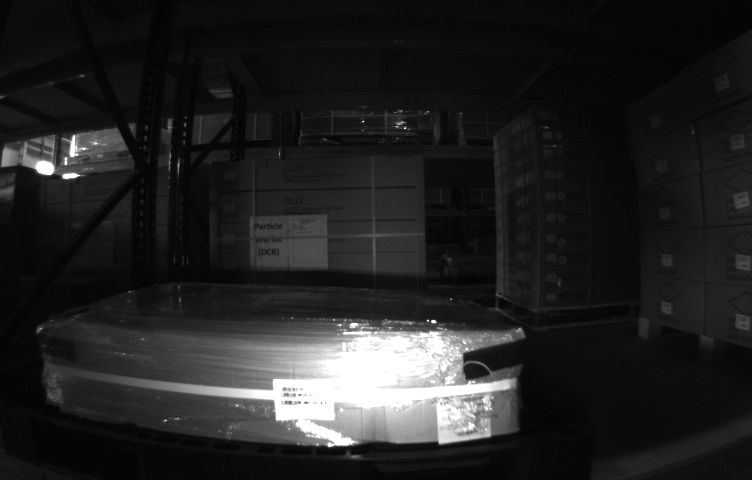True Barcode: (437, 390, 494, 439)
